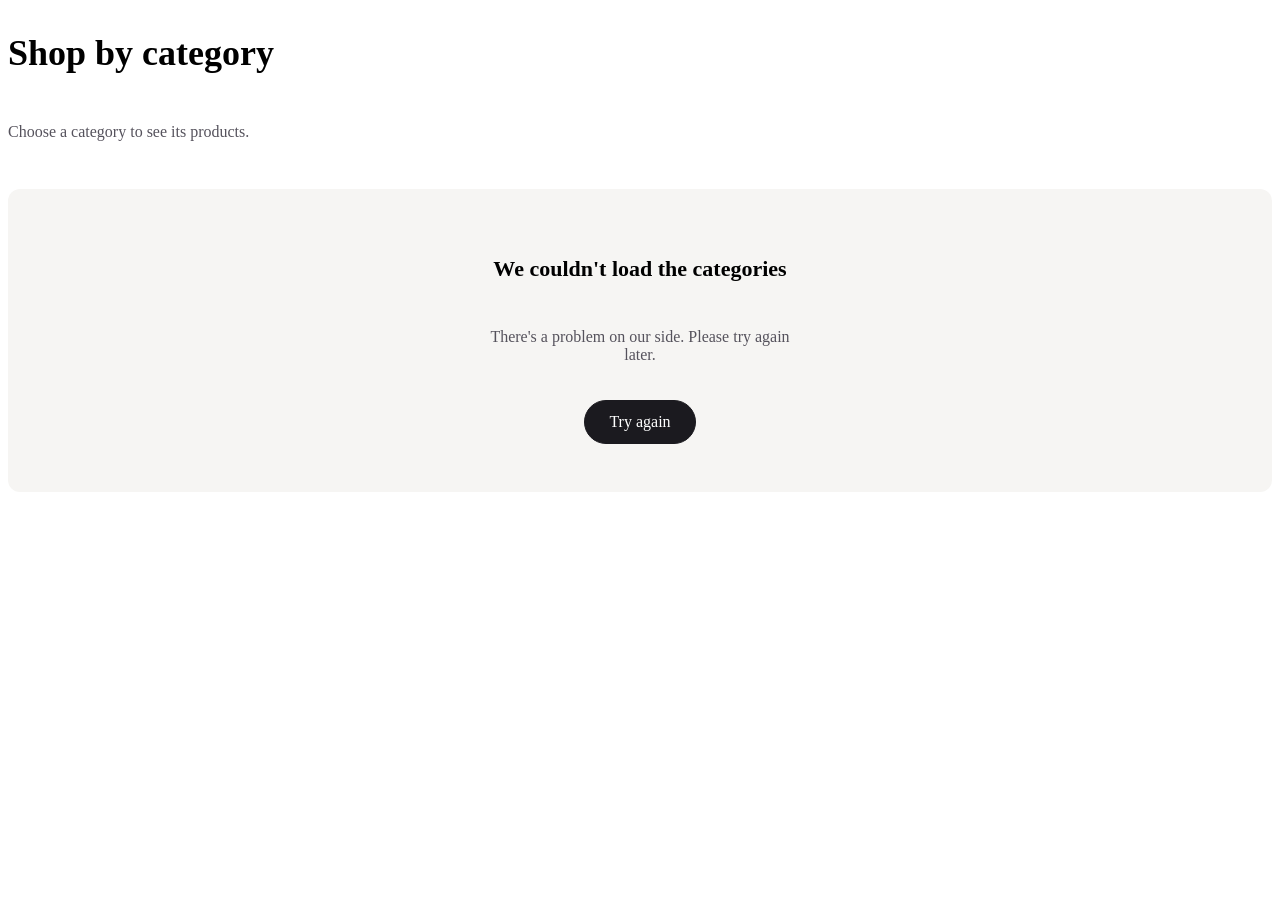
Test: CategoryListPage › shows an error with retry and recovers
Expected: the message shows "We couldn't load the categories", [493,256,787,281]
Expected: the message shows "There's a problem on our side. Please try again later.", [490,328,790,363]
What coordinates should you click on to do the following:
click the button "Try again"
I would click on:
 (640, 422)
Its box is [584,400,696,444].
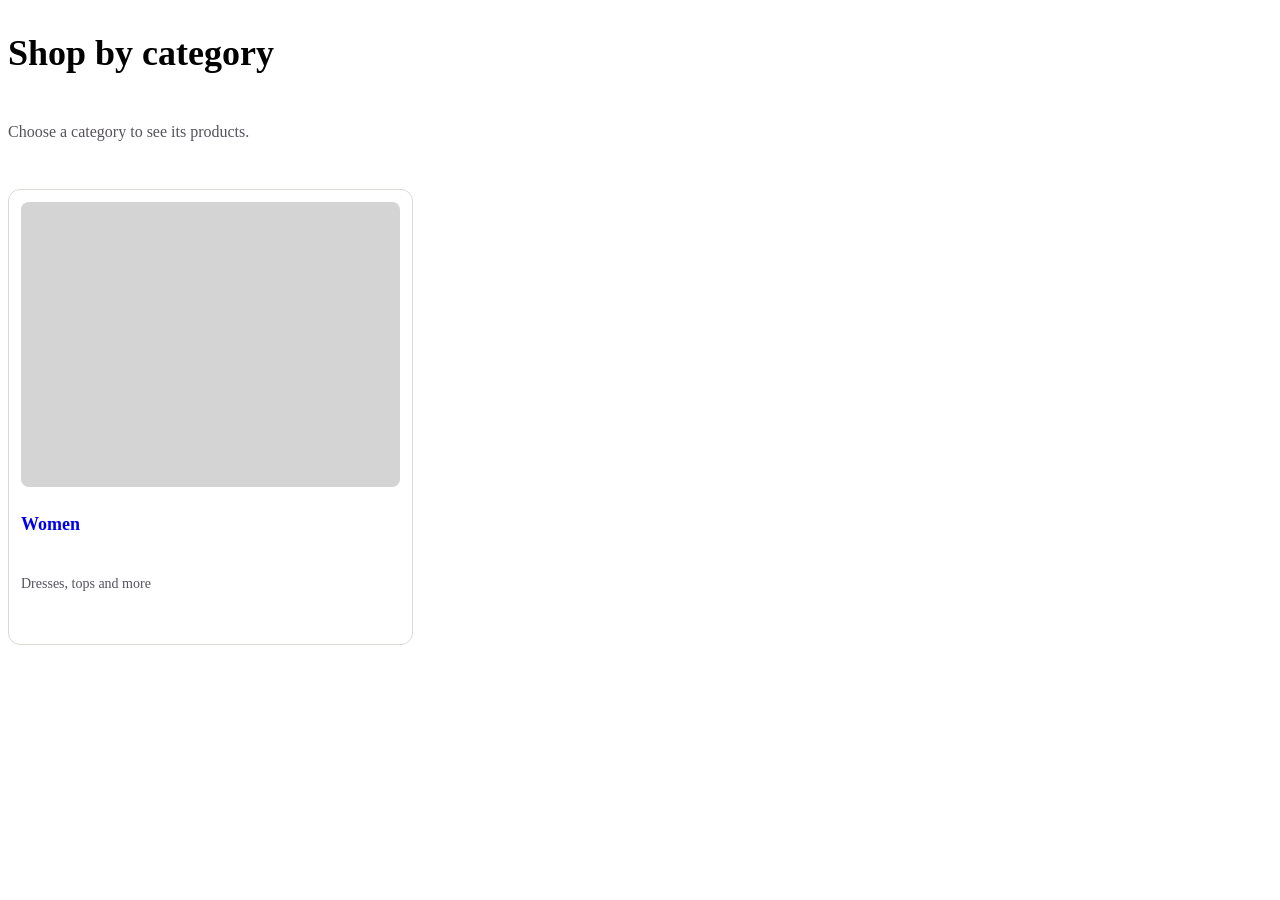
Now the link "Women" is shown, box [21,514,80,534]
